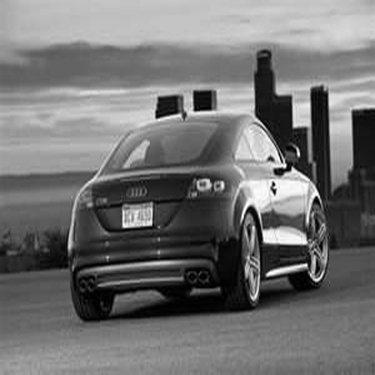car: (65, 107, 338, 321)
